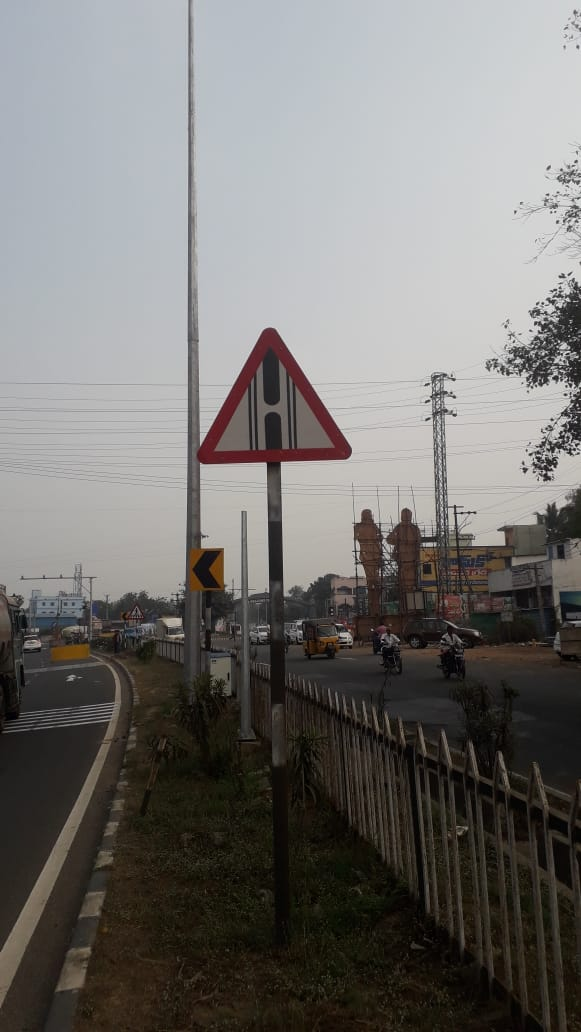highway go straight: (191, 295, 368, 475)
